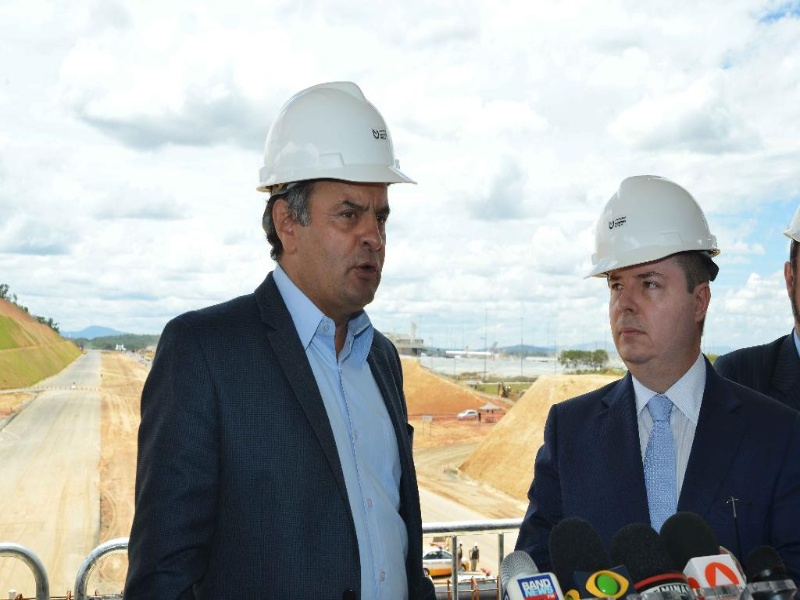Baret: (254, 81, 421, 197), (584, 175, 723, 284)
